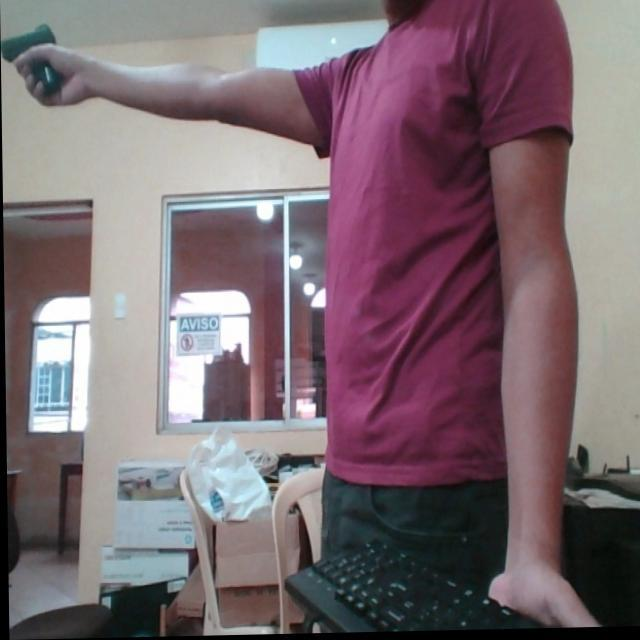weapon: (1, 21, 62, 98)
